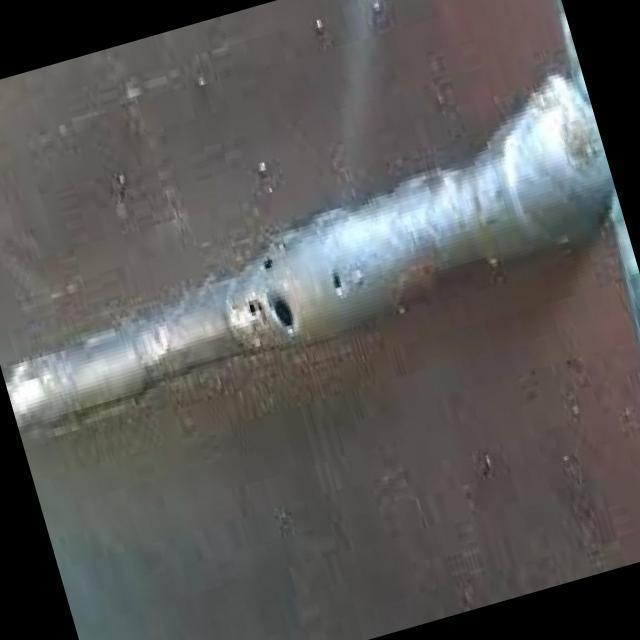defect: (245, 294, 298, 336), (257, 242, 278, 280), (326, 266, 347, 299)
